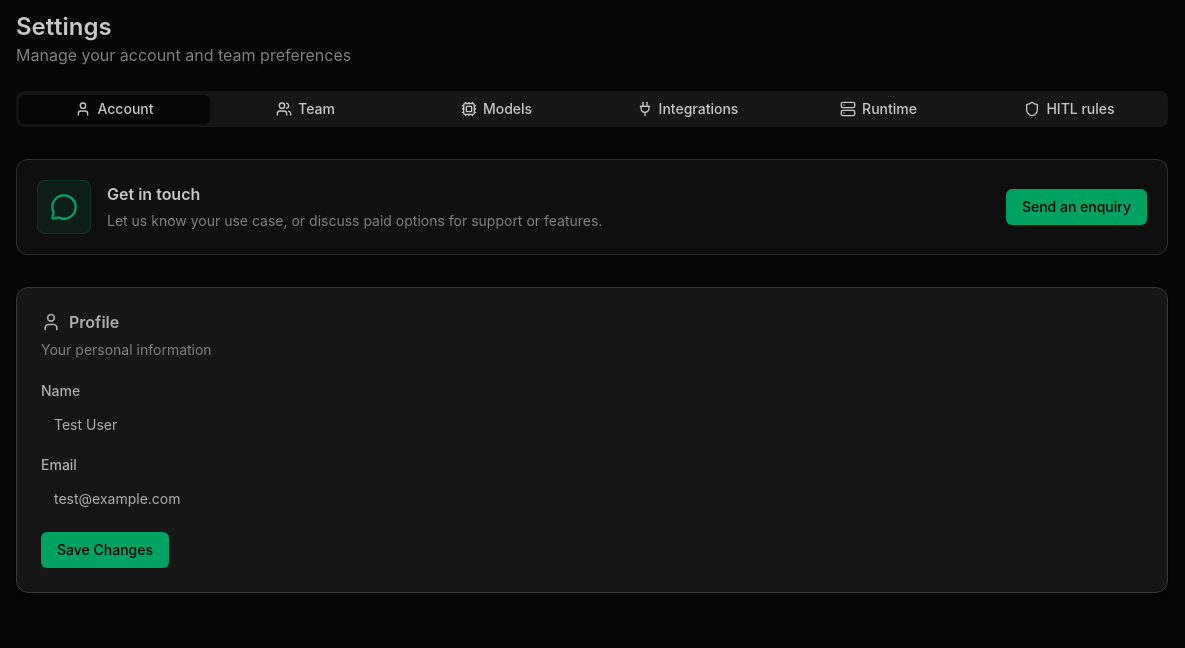
Scenario: SettingsView › switches to HITL rules tab when clicked
Click the tab "HITL rules" at (1070, 109), box x1=974 y1=94 x2=1165 y2=124
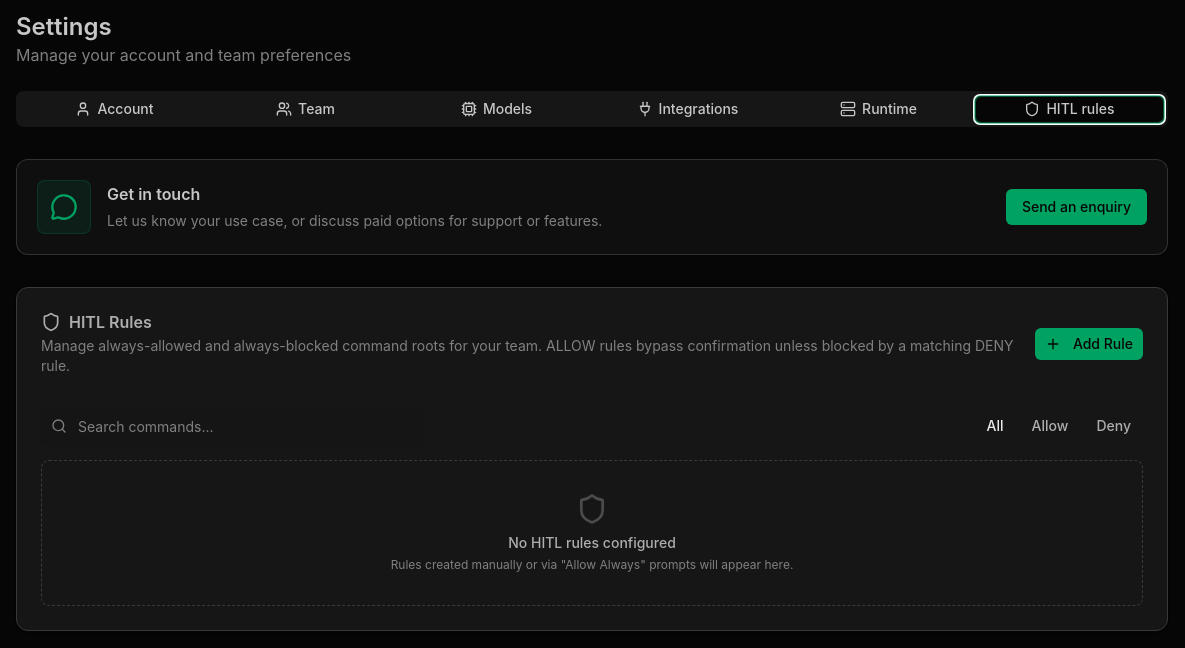
Now the text "HITL Rules" is shown, box x1=69 y1=314 x2=152 y2=330
